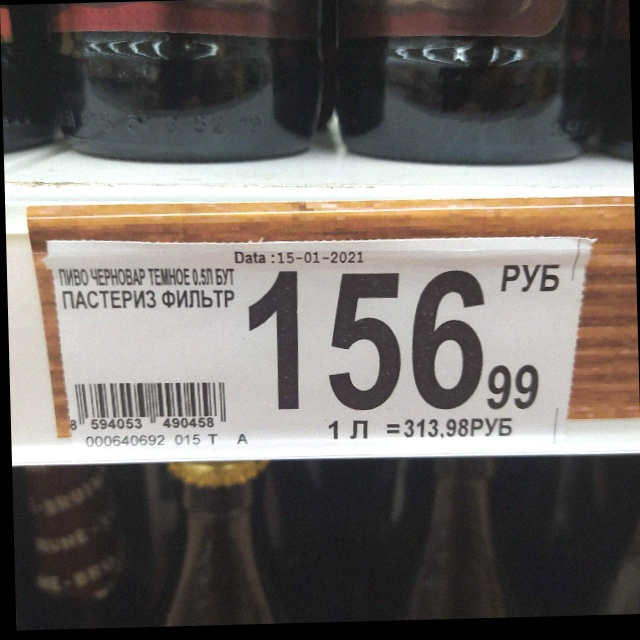barcode: (63, 381, 232, 433)
name: (52, 264, 237, 314)
price: (245, 267, 543, 415)
price_tag: (44, 240, 568, 447)
